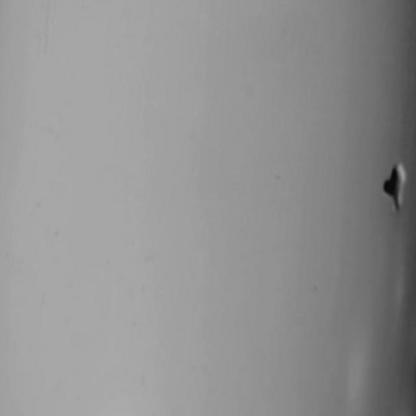kongdong: (377, 147, 413, 226)
